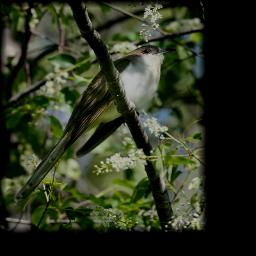Cuckoo: (11, 43, 178, 209)
